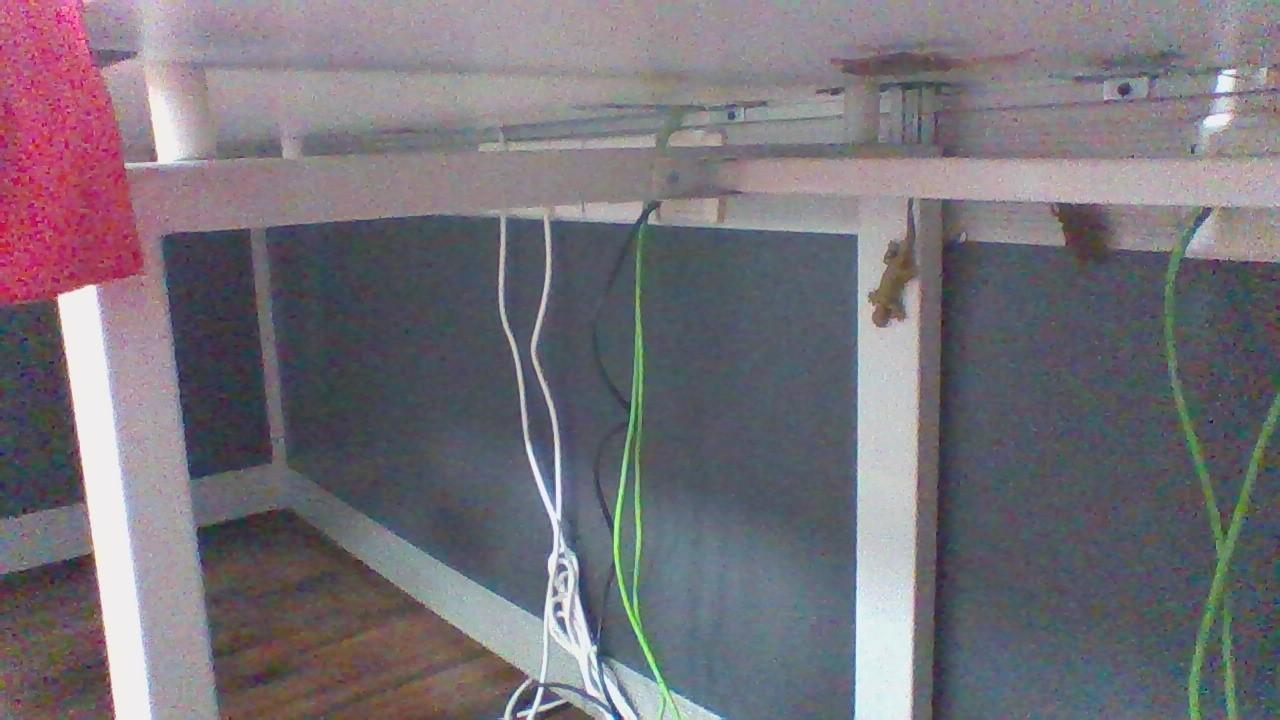cockroach: (815, 43, 1026, 88), (1039, 206, 1140, 273)
lizard: (852, 189, 931, 335)
